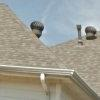Chimney: (74, 16, 98, 45)
